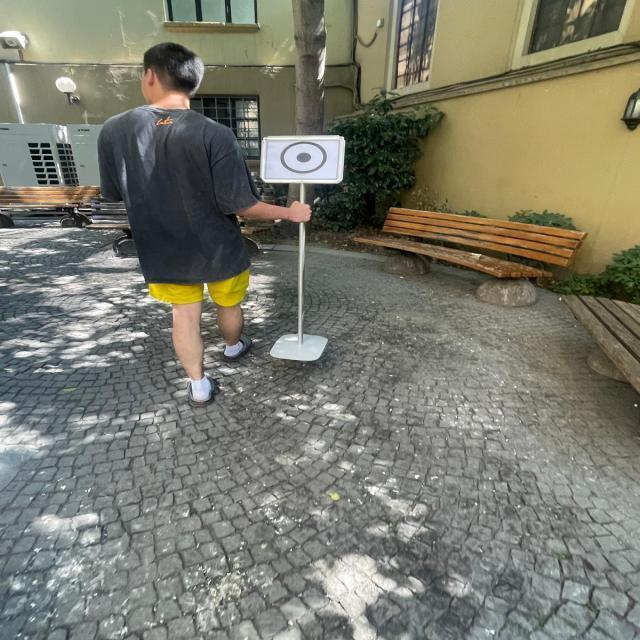Target: (251, 121, 354, 196)
inner: (291, 146, 317, 172)
